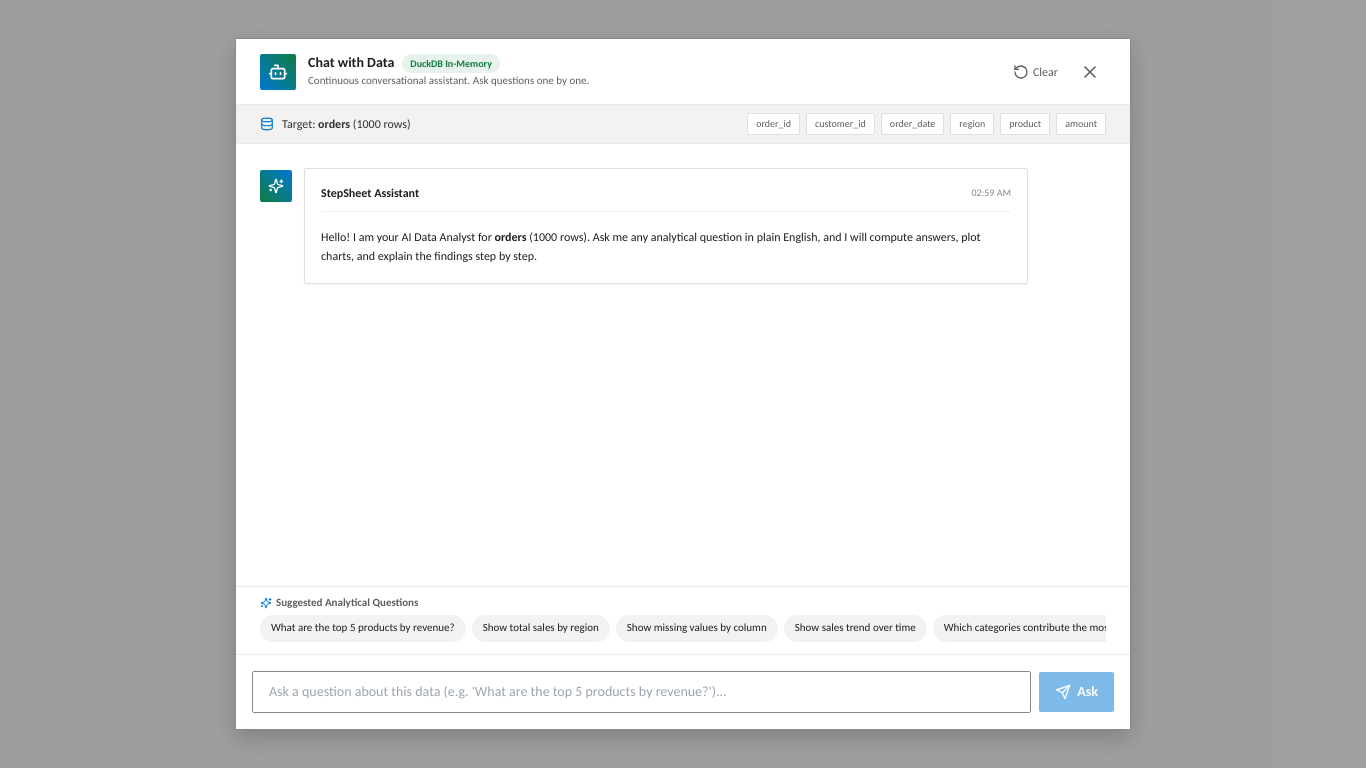
it: Chat with Data window › shows the answer formatted, with no raw markdown
Replace the text in the field with placeholder "Ask a question about this data" with "give me the executive summary of this data" at (642, 692), box [252,671,1031,713]
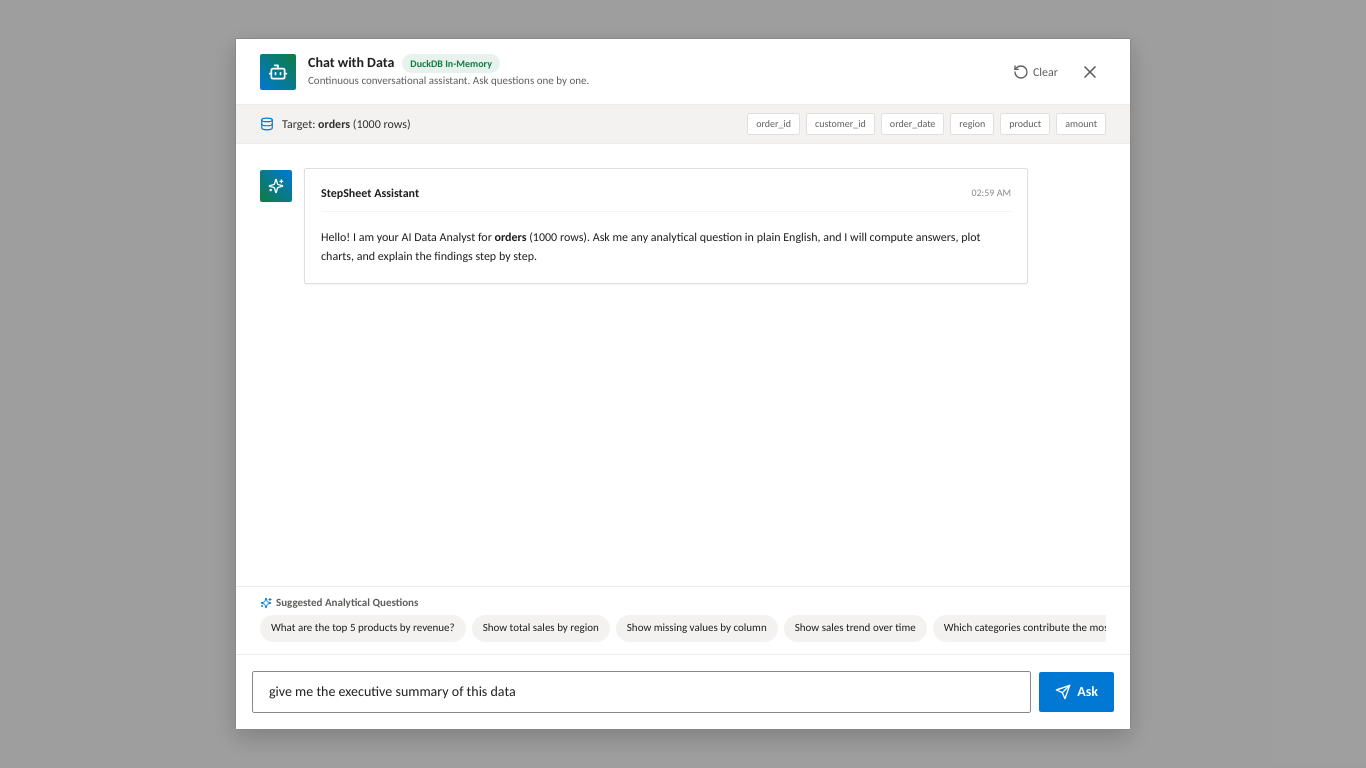
Click the button "Ask".
click(1077, 692)  # box [1039,672,1114,712]
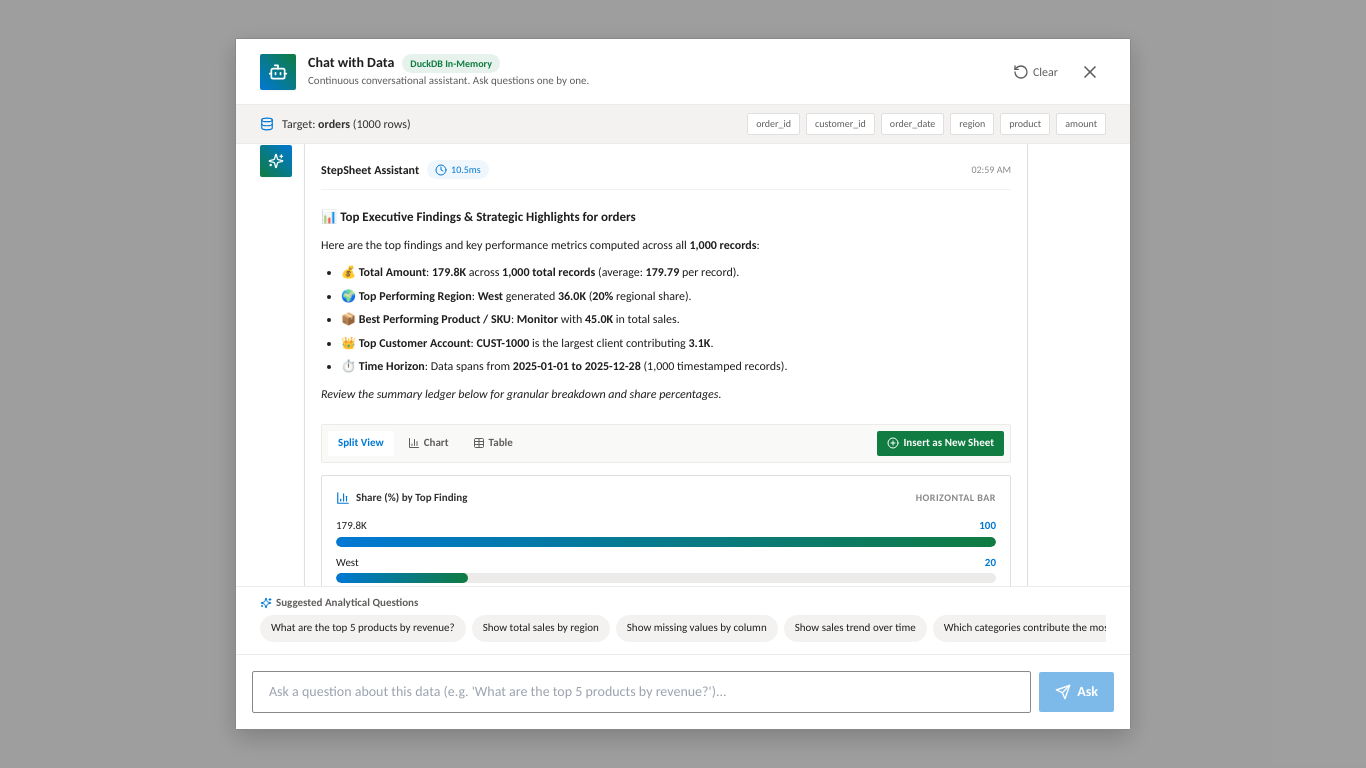
Check: the element with test id "chat-answer-text" shows "Top Executive Findings", box [321,209,601,224]
